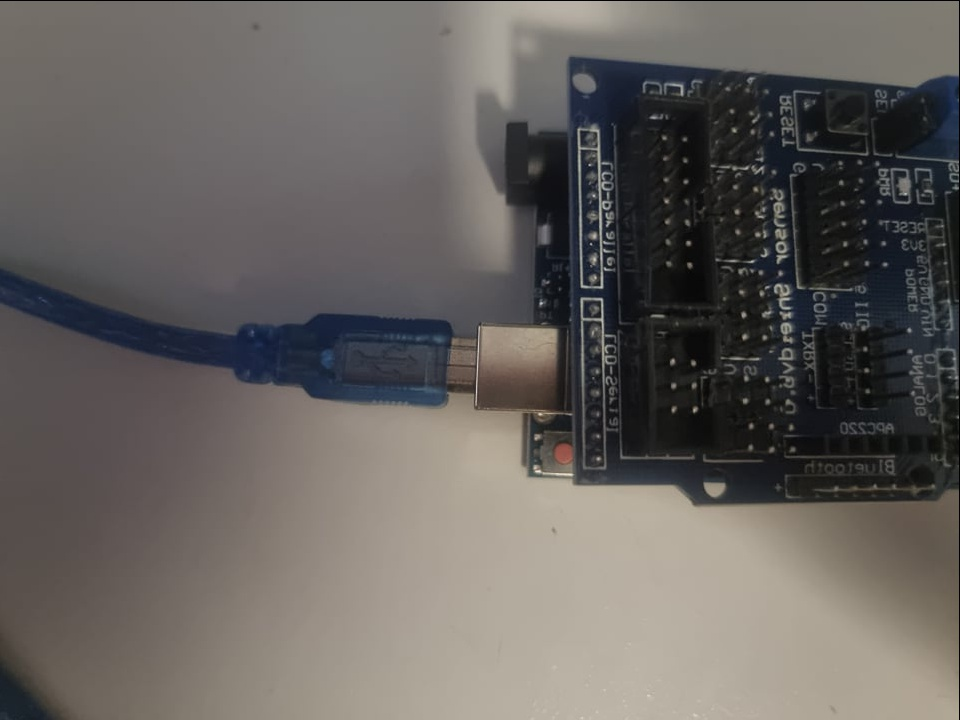5V EXPANSION: (573, 66, 960, 517)
UNO R3: (473, 53, 570, 495)
